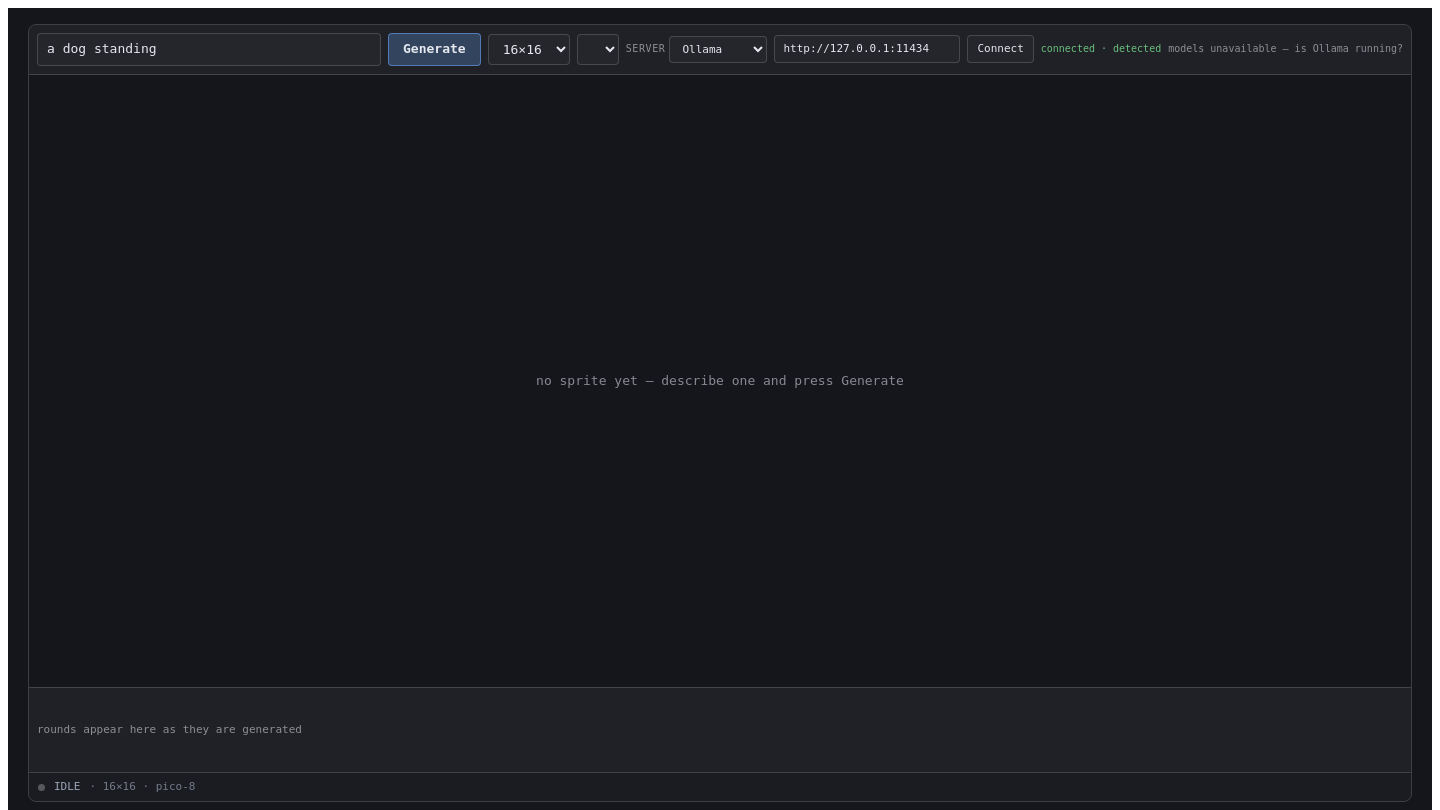
Test case: App — the provider row › renders a refused switch instead of swallowing it
Select "LM Studio" in the dropdown with test id "provider-select" at (718, 49), box x1=669 y1=36 x2=767 y2=63
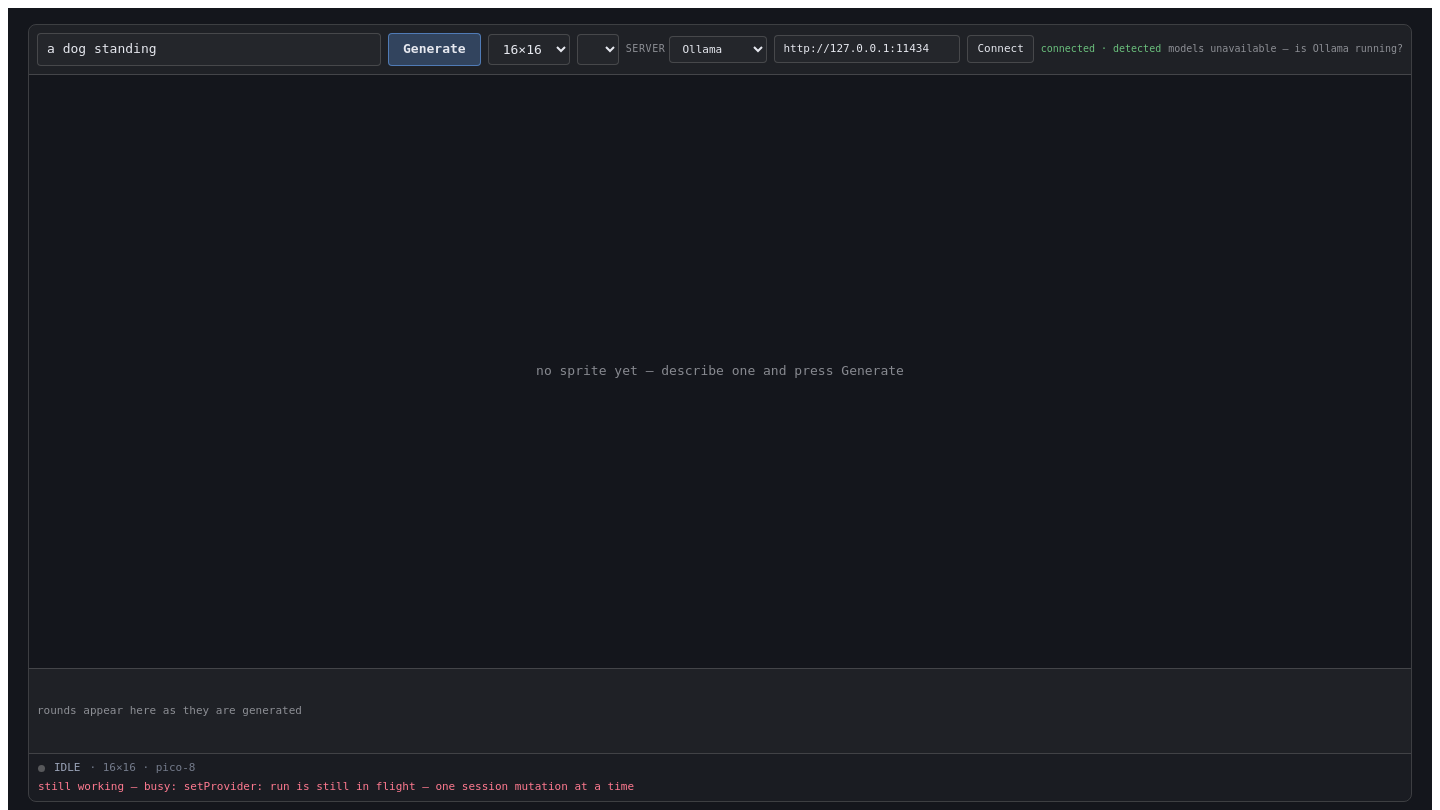
Check: the text with test id "error" shows "one session mutation at a time", box x1=184 y1=780 x2=634 y2=793
